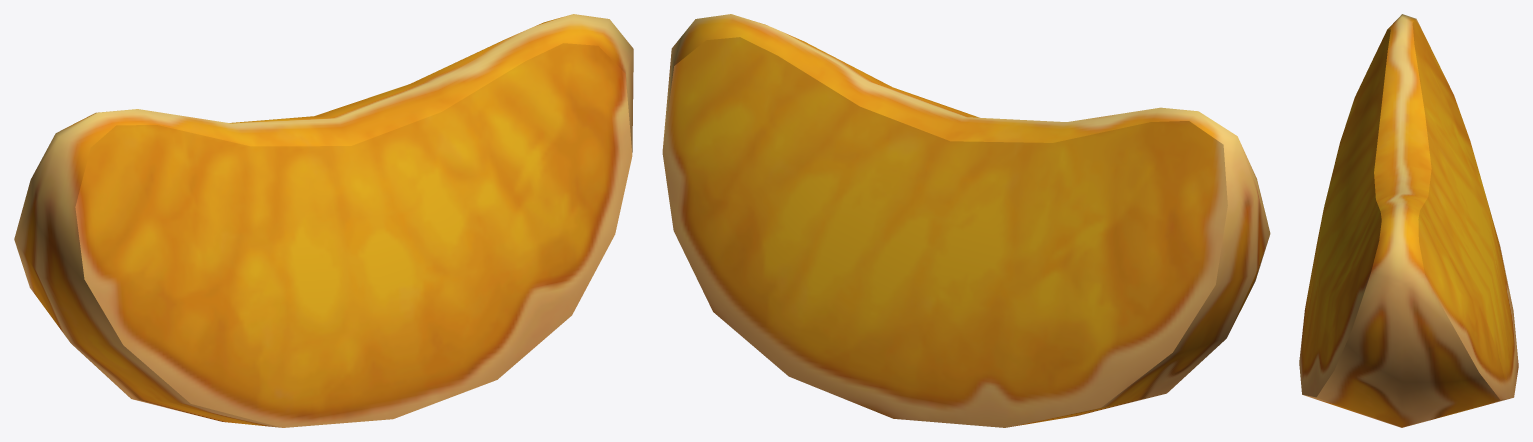
File: SM_TangerineSlice.fbx
3 renders of one model, left to right at view 1: azimuth 30°, elevation 25°; view 2: azimuth 150°, elevation 25°; view 3: azimuth 270°, elevation 25°, orthographic. The views are drawn at different scales.
Visible parts, largest first — view 1: SM_TangerineSlice; view 2: SM_TangerineSlice; view 3: SM_TangerineSlice.
Boxes of the visible parts, <box> form: SM_TangerineSlice: <box>14,14,633,427</box>; SM_TangerineSlice: <box>662,14,1270,427</box>; SM_TangerineSlice: <box>1299,14,1518,427</box>.
Bounding box in the file's own units: 8.42 × 4.81 × 3.34.
